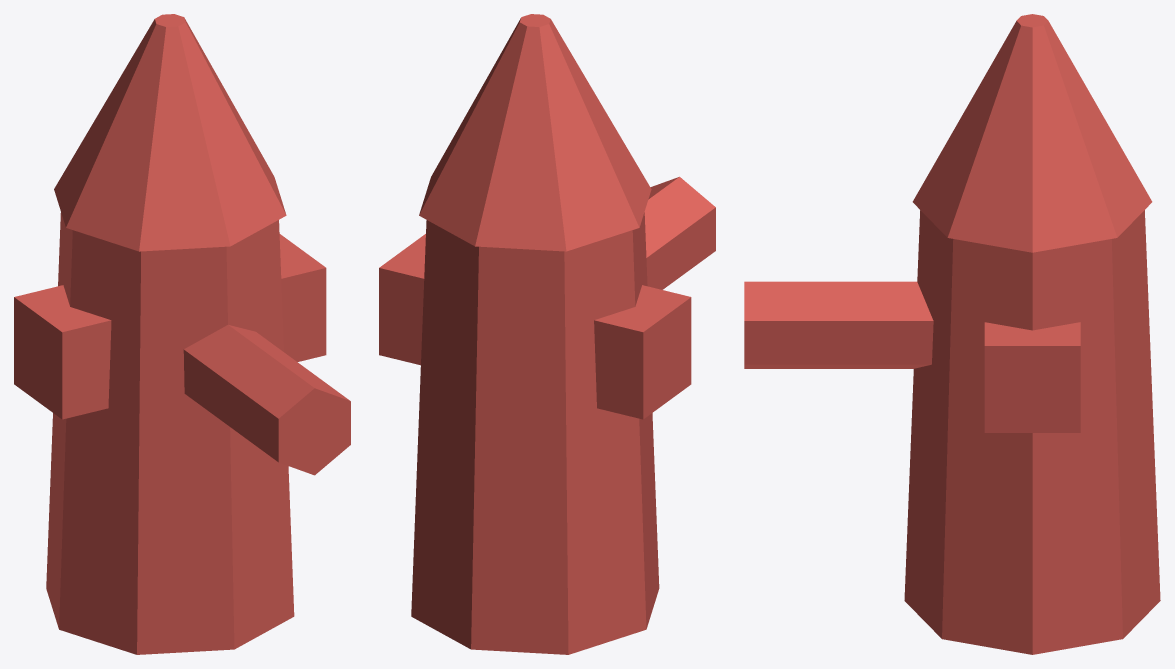
File: FireHydrant.glb
3 views of the same model, side by side, from view 1: azimuth 30°, elevation 25°; view 2: azimuth 150°, elevation 25°; view 3: azimuth 270°, elevation 25° (orthographic).
Visible parts, largest first — view 1: FireHydrant; view 2: FireHydrant; view 3: FireHydrant.
Boxes of the visible parts, <box> form: FireHydrant: <box>14,14,350,654</box>; FireHydrant: <box>379,14,715,654</box>; FireHydrant: <box>744,14,1160,654</box>.
Bounding box in the file's own units: 0.38 × 0.8 × 0.52.
